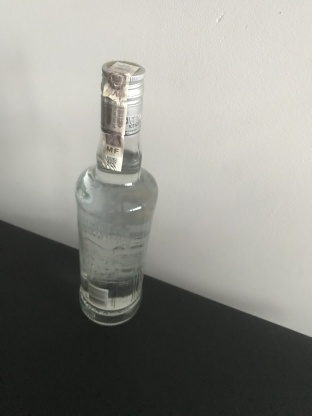nakretka: (99, 58, 146, 138)
